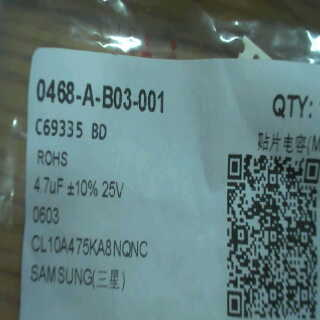4.7uF: (31, 174, 67, 198)
